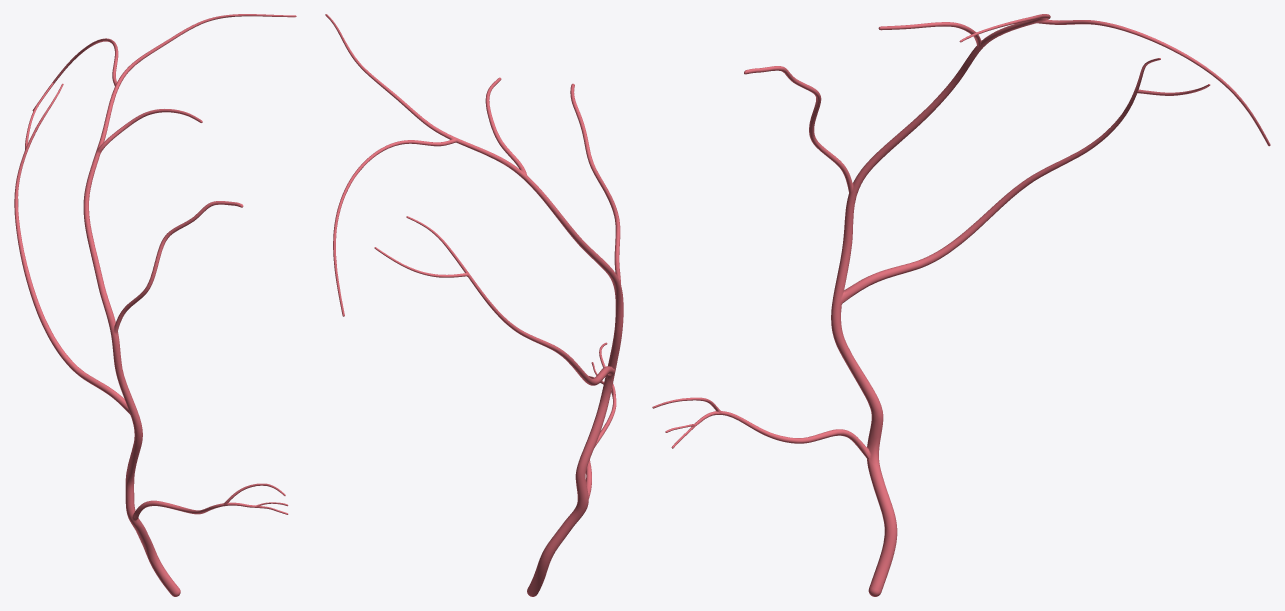
File: fma50933_fj5198.glb
3 views of the same model, side by side, from view 1: azimuth 30°, elevation 25°; view 2: azimuth 150°, elevation 25°; view 3: azimuth 270°, elevation 25° (orthographic). The views are drawn at different scales.
Visible parts, largest first — view 1: FMA50933_FJ5198; view 2: FMA50933_FJ5198; view 3: FMA50933_FJ5198.
Part boxes in pixels (bbox=[...]): FMA50933_FJ5198: bbox=[14, 14, 296, 596]; FMA50933_FJ5198: bbox=[325, 14, 623, 596]; FMA50933_FJ5198: bbox=[652, 14, 1270, 596].
Bounding box in the file's own units: 0.0749 × 0.1521 × 0.131.
